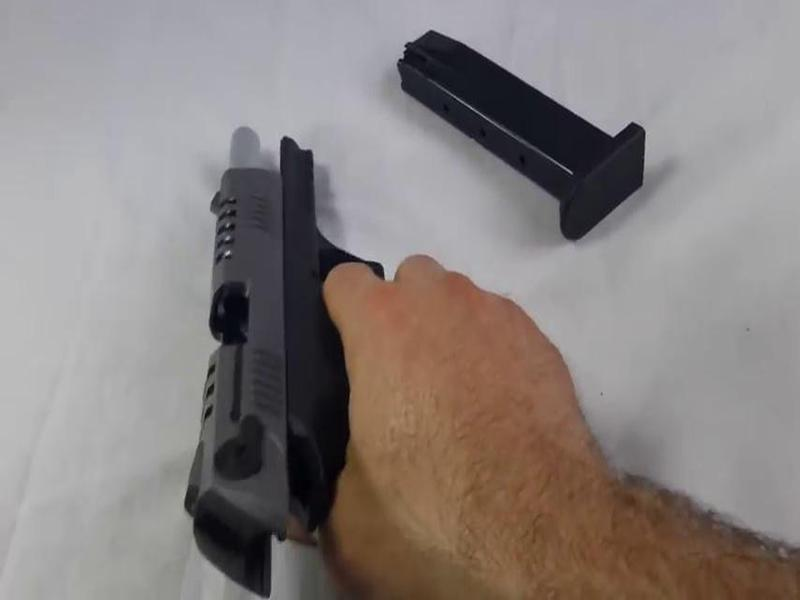Pistola: (143, 103, 419, 566)
